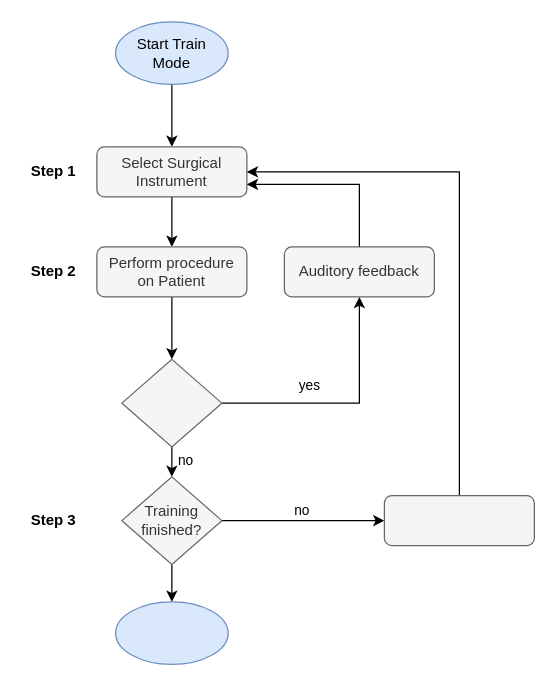
Image size: 556x686. Some labels were removed from this diagram. Each missing label, with the centre of its shape:
Error: [171,402]
Exit: [171,632]
Next Step: [458,520]
